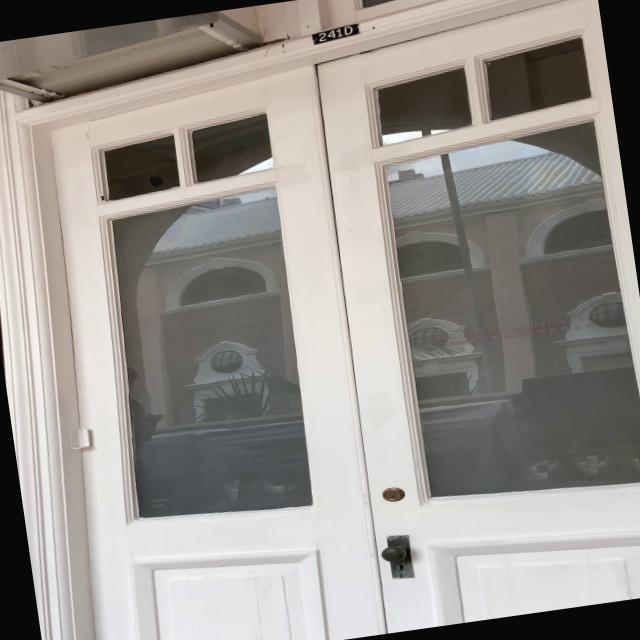room241d: (312, 22, 363, 49)
